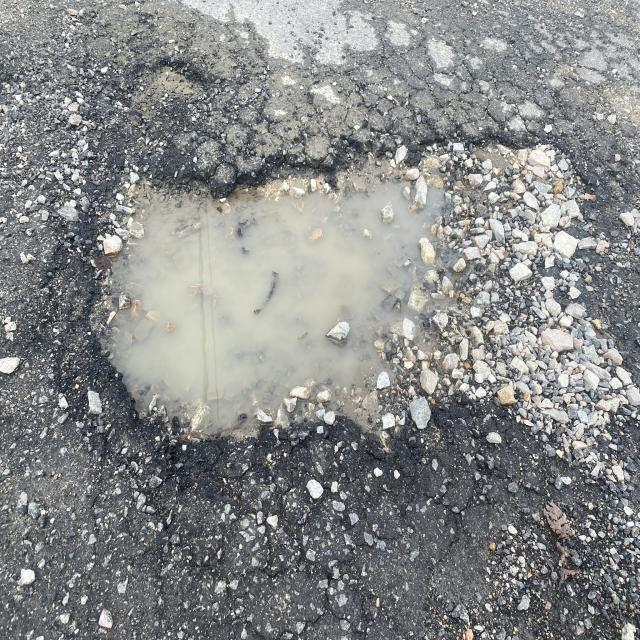pothole: (36, 52, 640, 480)
